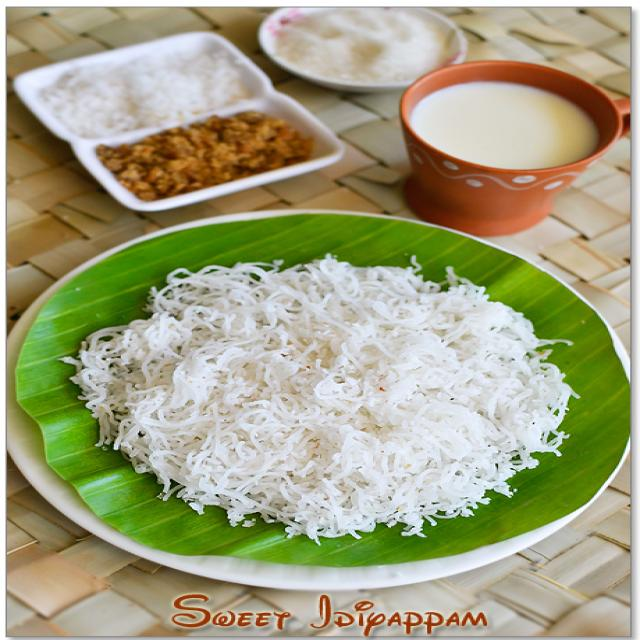IDIYAPPAM: (82, 257, 573, 541)
